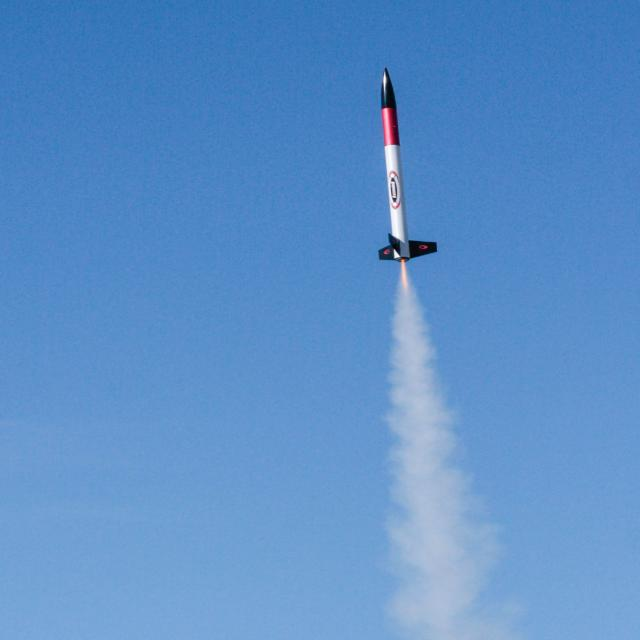Rocket: (377, 67, 440, 265)
